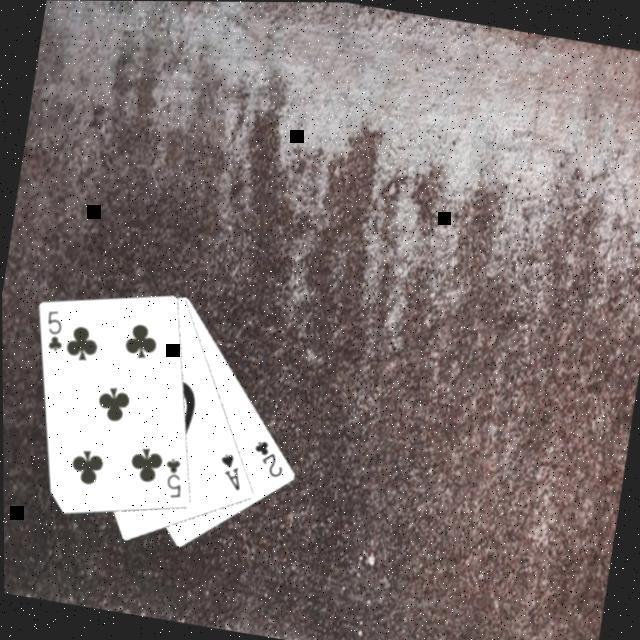2C: (246, 435, 288, 480)
5C: (156, 452, 189, 502), (38, 305, 69, 355)
AS: (212, 447, 246, 493)
